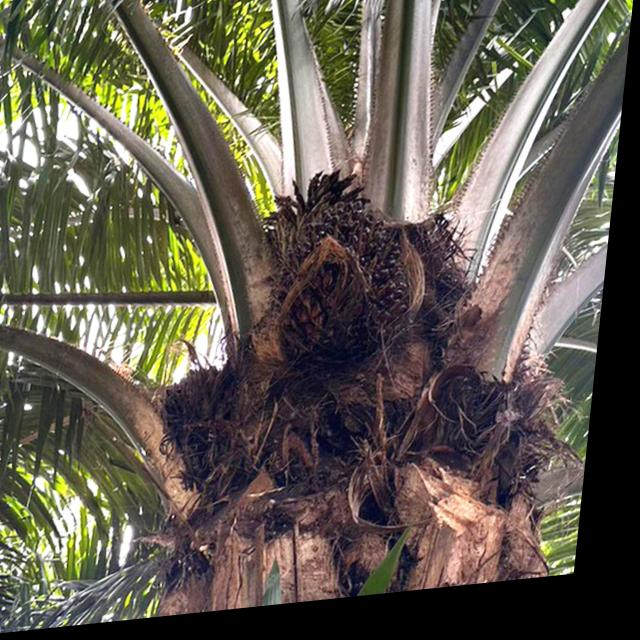almost: (260, 192, 437, 396)
